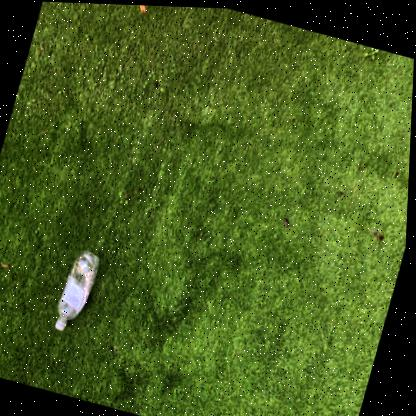Plastic: (59, 250, 101, 330)
